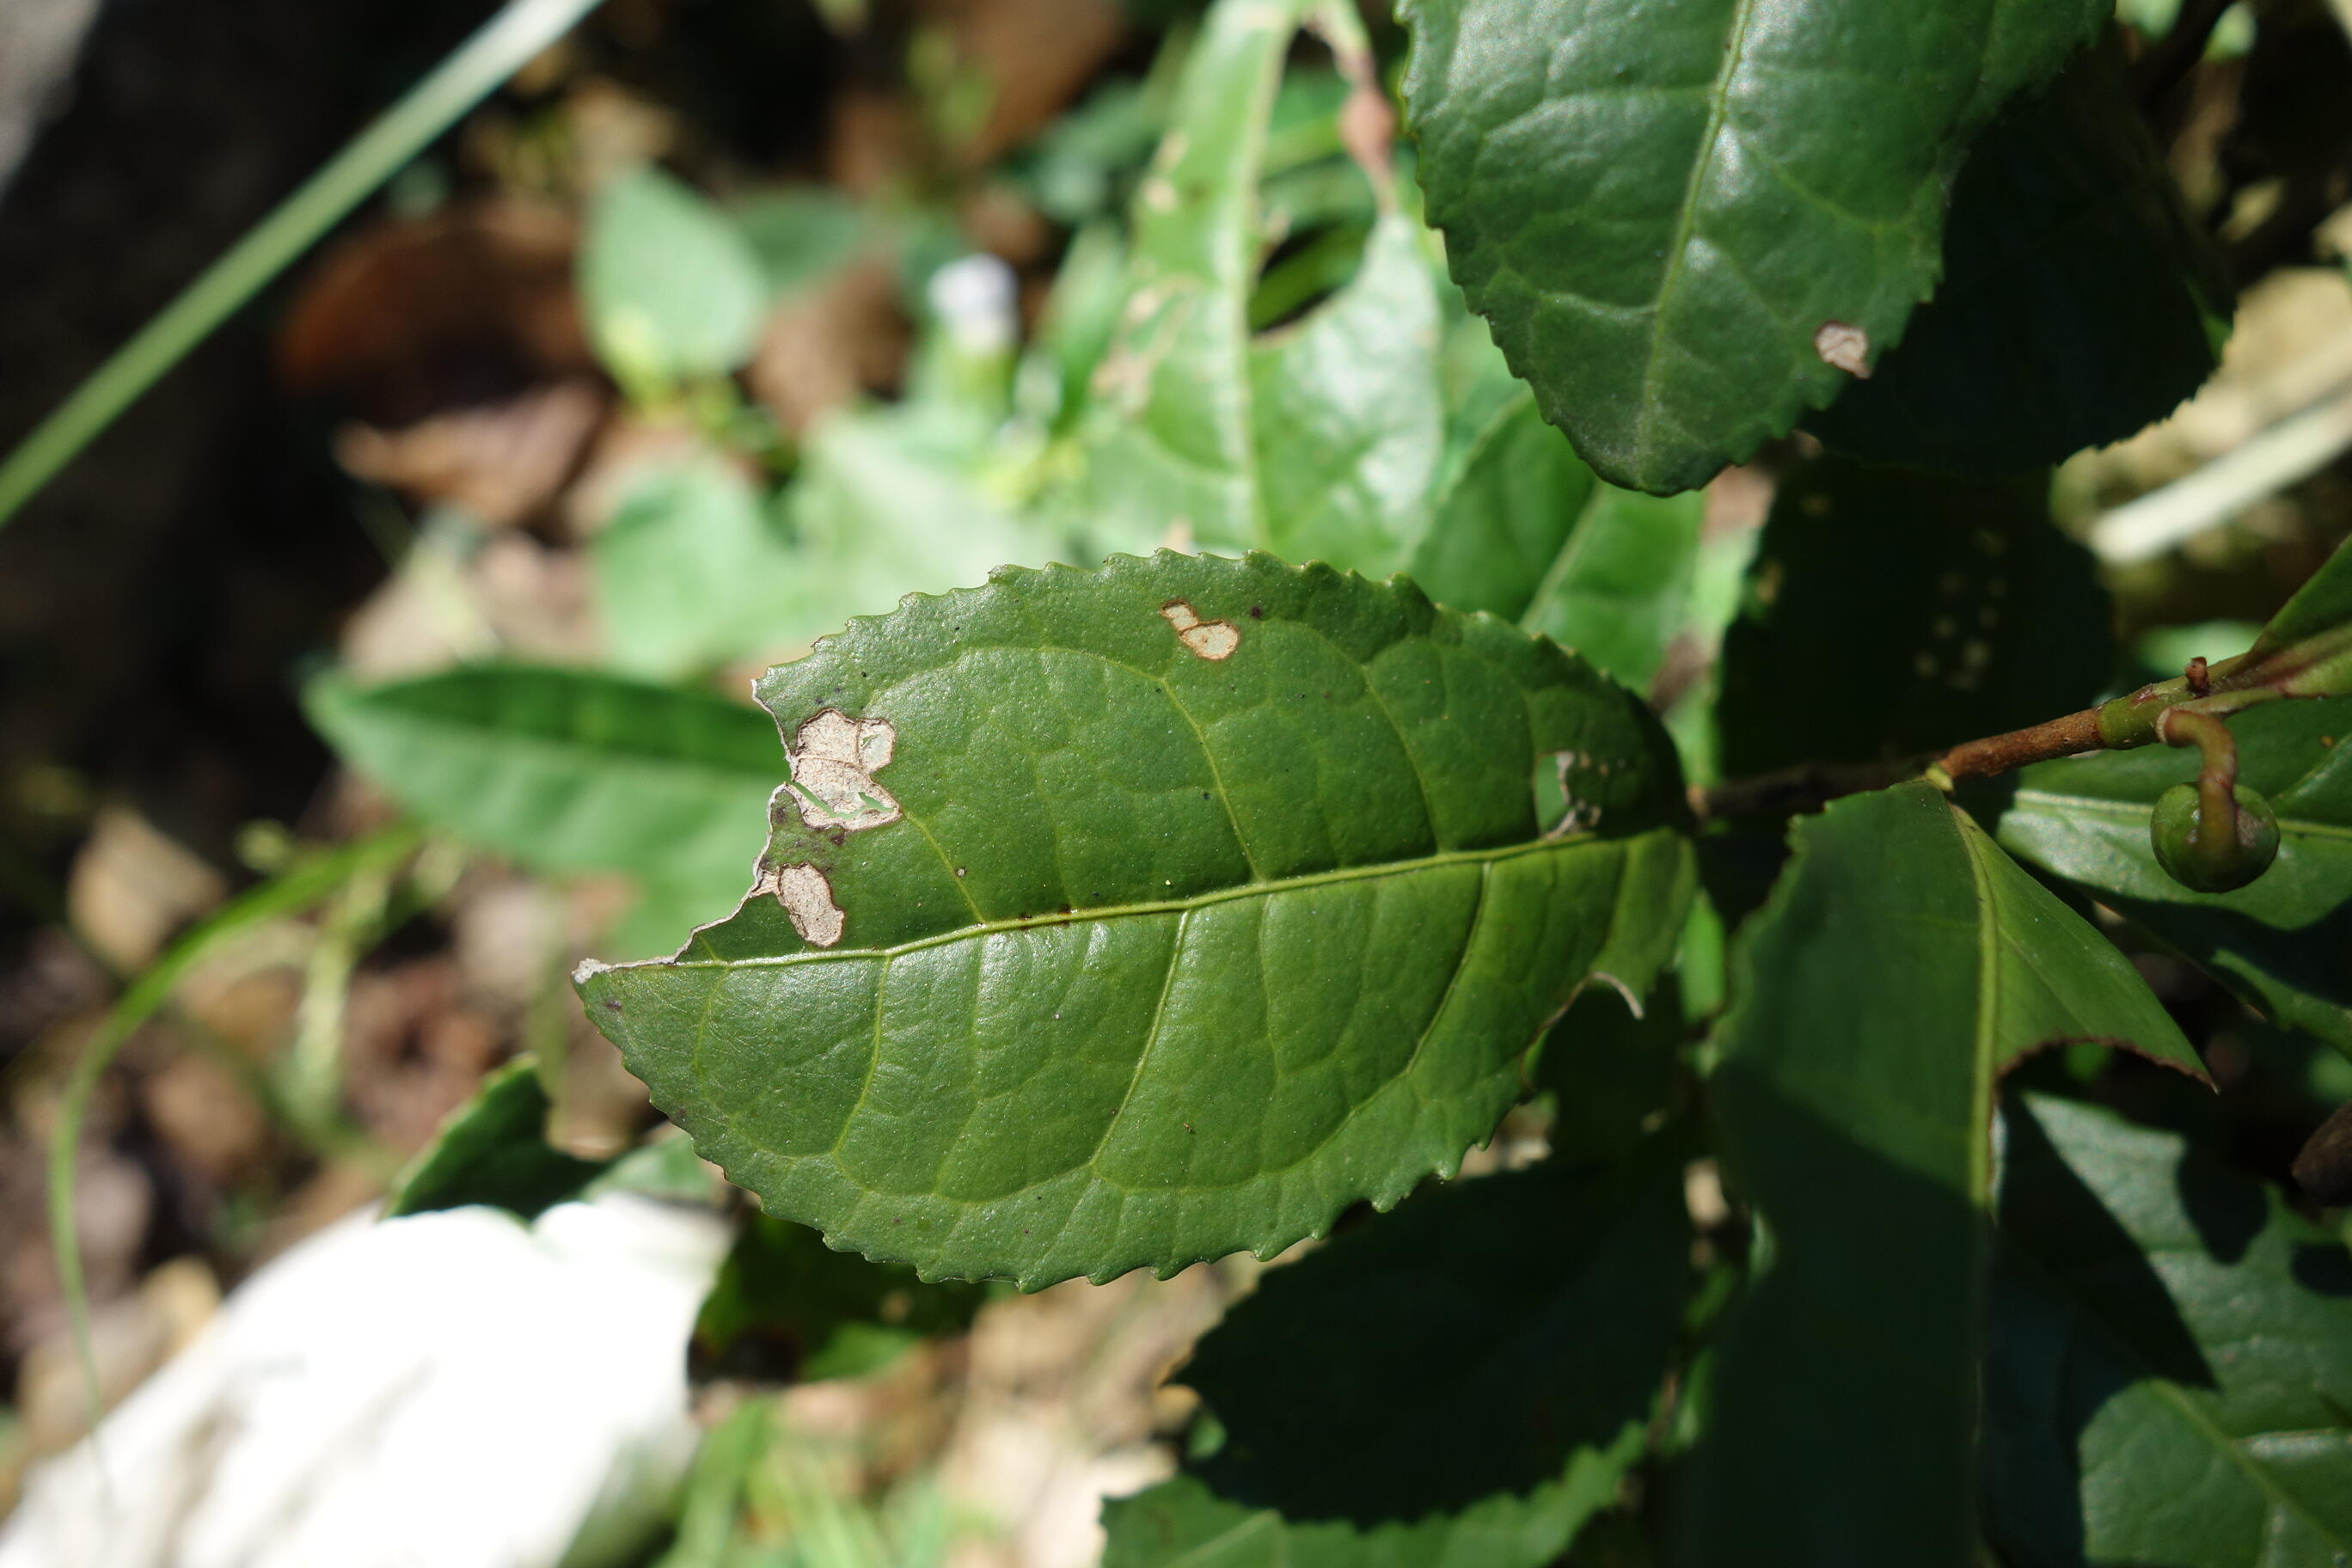tanju_high: (570, 546, 1710, 1288)
tanju_low: (1388, 2, 2007, 500)
